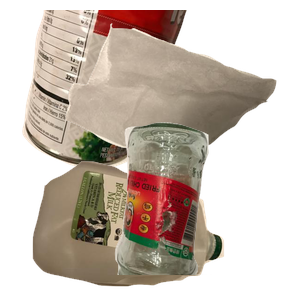glass: (112, 120, 300, 300)
metal: (20, 10, 199, 172)
plastic: (30, 159, 247, 300)
trash: (63, 21, 300, 172)
